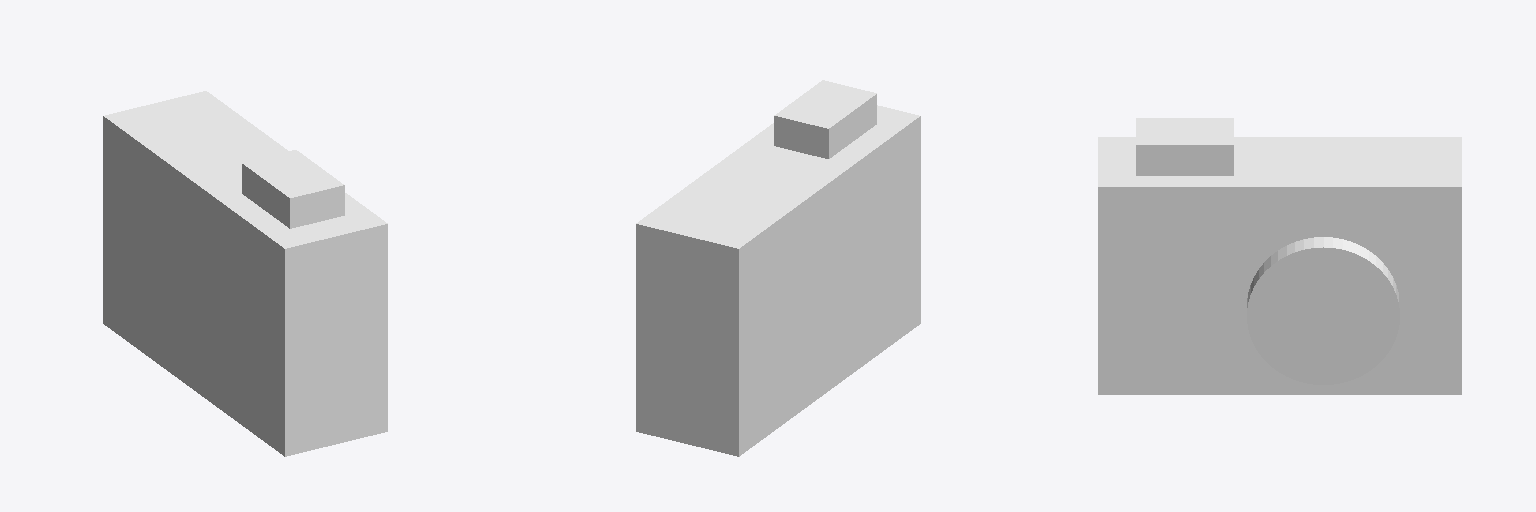
File: cam-t.obj
The picture shows the model from 3 angles: view 1: azimuth 30°, elevation 25°; view 2: azimuth 150°, elevation 25°; view 3: azimuth 270°, elevation 25°; orthographic projection.
Parts seen in each view (by area): view 1: pCube1, pasted__pCube1_group1; view 2: pCube1, pasted__pCube1_group1; view 3: pCube1, pCylinder1, pasted__pCube1_group1.
Boxes of the visible parts, <box> form: pCube1: <box>103,91,387,456</box>; pasted__pCube1_group1: <box>242,150,344,228</box>; pCube1: <box>636,105,920,456</box>; pasted__pCube1_group1: <box>774,80,876,158</box>; pCube1: <box>1098,137,1461,394</box>; pCylinder1: <box>1247,237,1399,384</box>; pasted__pCube1_group1: <box>1136,118,1233,175</box>.
Size of the model in its own units: 1.2 by 2.21 by 3.05.